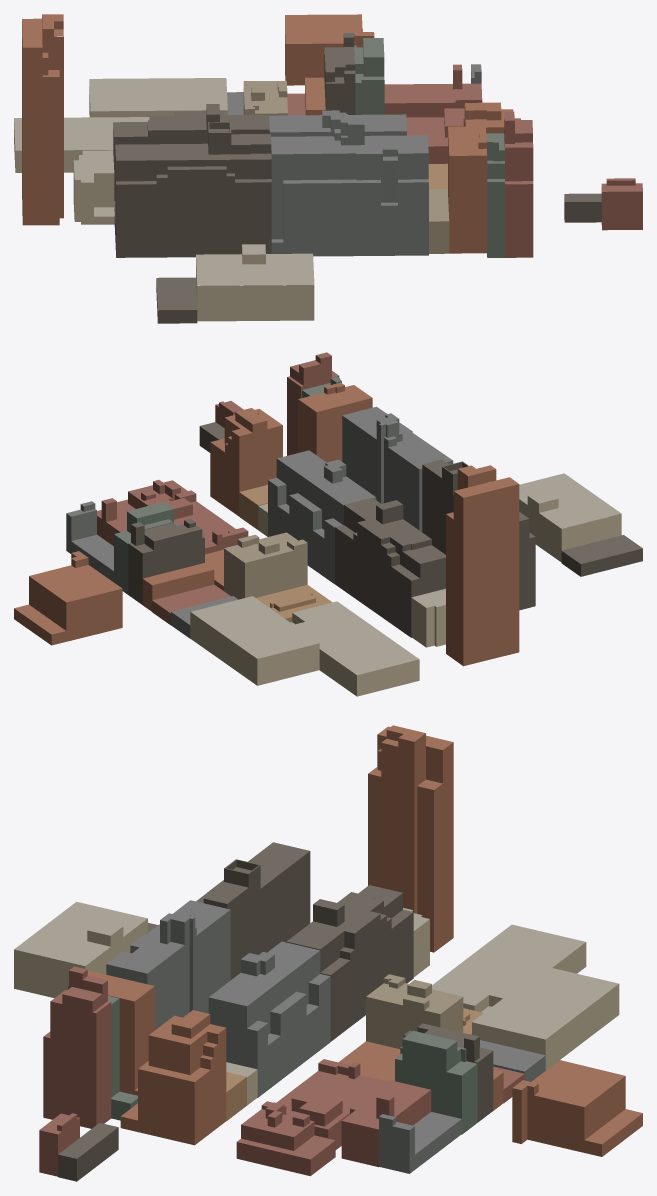
Rendered from tile--4_-11.glb.
The picture shows the model from 3 angles, top to bottom: view 1: azimuth 30°, elevation 25°; view 2: azimuth 150°, elevation 25°; view 3: azimuth 270°, elevation 25°; orthographic projection. The views are drawn at different scales.
Visible parts, largest first — view 1: wall, roof; view 2: wall, roof; view 3: wall, roof.
Boxes of the visible parts, x1,y1,x2,y2 form: wall: (14,17,642,323); roof: (14,14,642,310); wall: (14,355,642,696); roof: (14,352,642,675); wall: (14,730,642,1181); roof: (14,725,642,1159).
Bounding box in the file's own units: 216 × 83.45 × 223.
